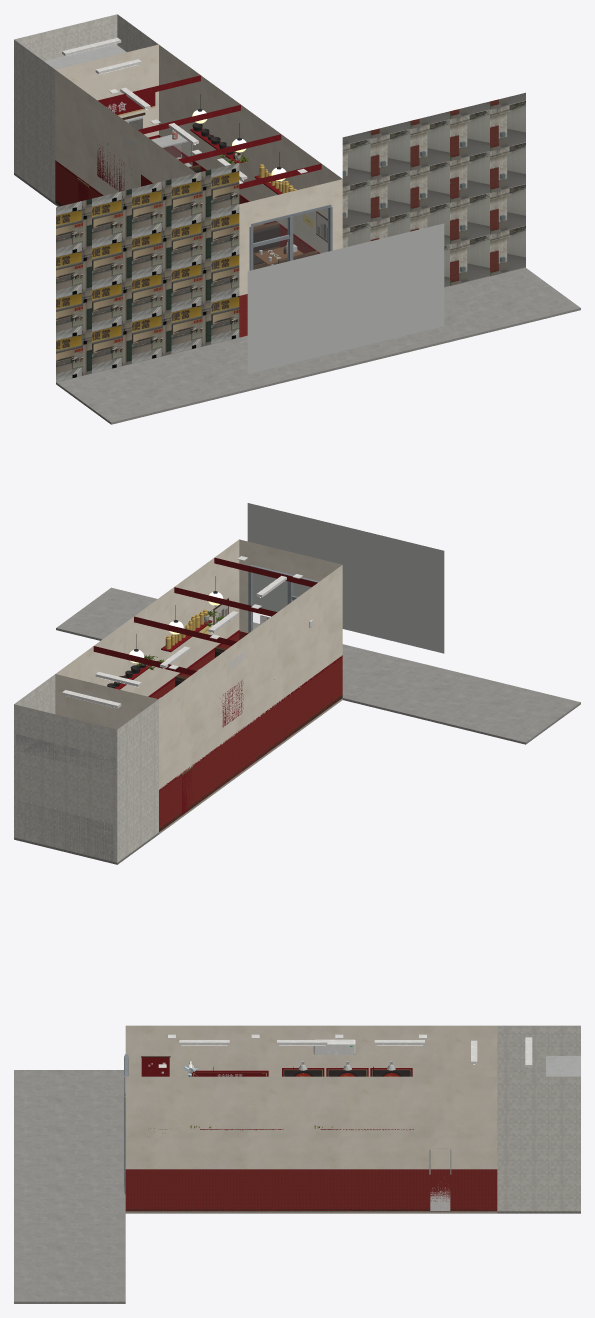
File: l118_tea.glb
The picture shows the model from 3 angles, top to bottom: view 1: azimuth 30°, elevation 25°; view 2: azimuth 150°, elevation 25°; view 3: azimuth 270°, elevation 25°; orthographic projection.
Visible parts, largest first — view 1: WALL_W_nb_view, WALL_E_nb_view, WALL_S_view, l118_tea_paving, WALL_E_wall, WALL_N_kitchen_tile_w, WALL_W_wall, WALL_N_wall, WALL_S_wall, WALL_S_glass, CEIL_l118_tea_beams, WALL_S_frame_alu (+8 smaller); view 2: WALL_N_kitchen_tile_w, WALL_W_wall, WALL_S_view, l118_tea_paving, WALL_E_wall, WALL_W_wain, WALL_N_ksteel_cc0, WALL_N_wall, WALL_S_wall, CEIL_l118_tea_beams, CEIL_l118_tea_vc, WALL_S_glass (+4 smaller); view 3: WALL_E_wall, l118_tea_paving, WALL_W_wall, WALL_E_wain, WALL_N_kitchen_tile_w, WALL_W_print, CEIL_l118_tea_vc, l118_tea_floorm, WALL_W_trim_red_wine, WALL_E_trim_wood_d, WALL_N_ksteel_cc0, WALL_W_trim_plastic_w.
Boxes of the visible parts, <box> form: WALL_W_nb_view: <box>56,163,239,382</box>; WALL_E_nb_view: <box>342,92,525,287</box>; WALL_S_view: <box>247,223,444,373</box>; l118_tea_paving: <box>56,267,580,424</box>; WALL_E_wall: <box>159,45,341,253</box>; WALL_N_kitchen_tile_w: <box>14,14,158,202</box>; WALL_W_wall: <box>55,70,195,195</box>; WALL_N_wall: <box>55,44,158,137</box>; WALL_S_wall: <box>239,179,342,295</box>; WALL_S_glass: <box>254,208,328,268</box>; CEIL_l118_tea_beams: <box>97,75,321,189</box>; WALL_S_frame_alu: <box>249,204,332,270</box>; WALL_N_kitchen_tile_w: <box>14,674,158,862</box>; WALL_W_wall: <box>159,565,342,789</box>; WALL_S_view: <box>247,503,444,653</box>; l118_tea_paving: <box>56,587,580,744</box>; WALL_E_wall: <box>56,539,239,696</box>; WALL_W_wain: <box>159,657,342,831</box>; WALL_N_ksteel_cc0: <box>16,734,115,861</box>; WALL_N_wall: <box>55,674,158,729</box>; WALL_S_wall: <box>239,539,342,632</box>; CEIL_l118_tea_beams: <box>93,557,317,675</box>; CEIL_l118_tea_vc: <box>95,556,302,686</box>; WALL_S_glass: <box>252,573,310,629</box>; WALL_E_wall: <box>125,1076,497,1169</box>; l118_tea_paving: <box>14,1070,125,1303</box>; WALL_W_wall: <box>125,1025,497,1076</box>; WALL_E_wain: <box>125,1169,497,1211</box>; WALL_N_kitchen_tile_w: <box>497,1025,580,1211</box>; WALL_W_print: <box>193,1069,411,1076</box>; CEIL_l118_tea_vc: <box>158,1034,477,1067</box>; l118_tea_floorm: <box>125,1211,497,1213</box>; WALL_W_trim_red_wine: <box>141,1057,412,1076</box>; WALL_E_trim_wood_d: <box>126,1128,497,1211</box>; WALL_N_ksteel_cc0: <box>546,1056,580,1076</box>; WALL_W_trim_plastic_w: <box>313,1039,355,1054</box>.
Size of the model in its own units: 11.8 by 4.25 by 12.2.
Materials: 39 (30 with a texture image).
